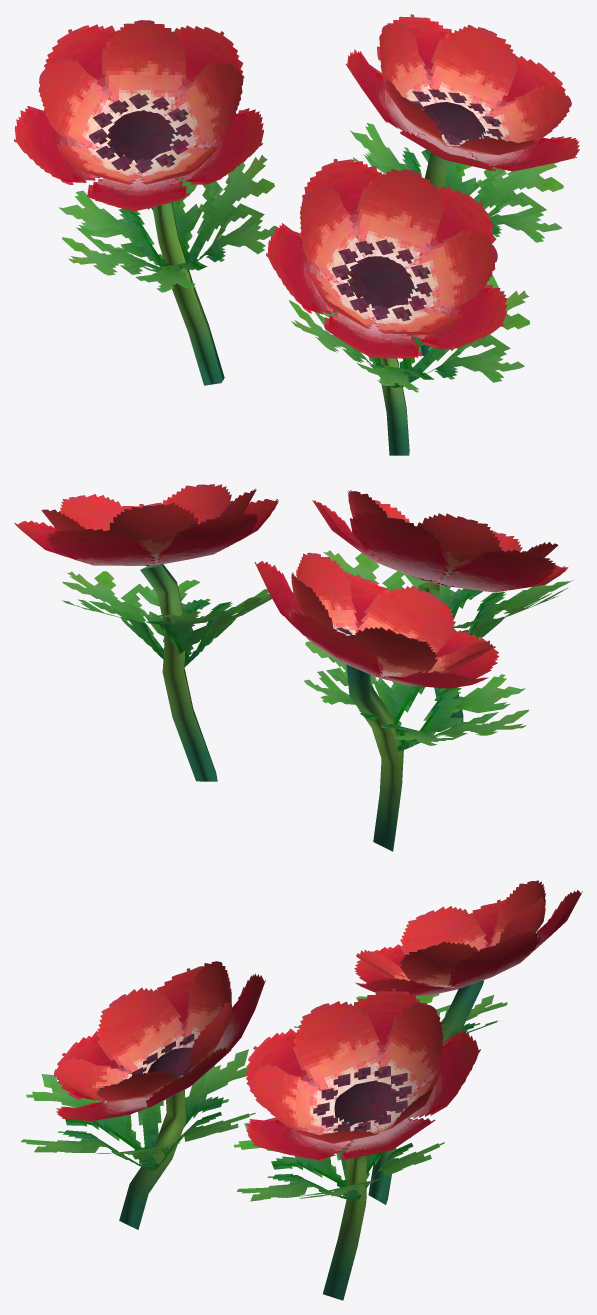
File: red-windflowers.glb
3 views of the same model, one above another, from view 1: azimuth 30°, elevation 25°; view 2: azimuth 150°, elevation 25°; view 3: azimuth 270°, elevation 25° (orthographic). The views are drawn at different scales.
Bounding box in the file's own units: 9.97 × 6.03 × 10.17.
2 materials, 2 textured.
